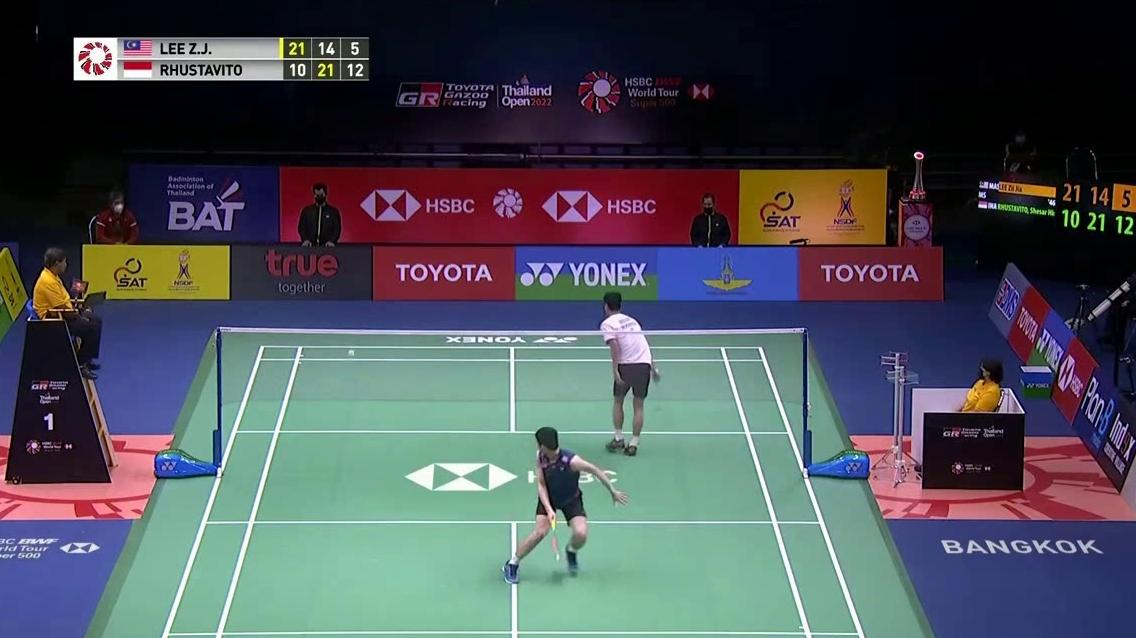racket: (648, 359, 674, 436), (545, 507, 568, 570)
shuttle: (346, 346, 358, 359)
